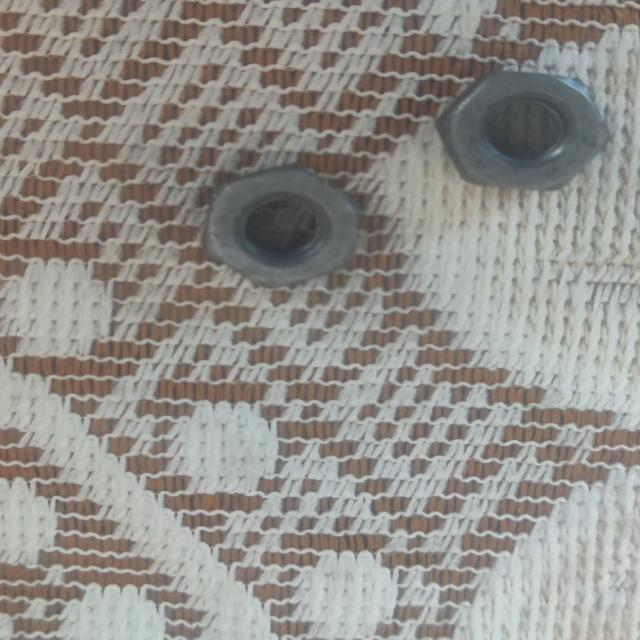disinfected nut: (437, 72, 610, 190), (203, 168, 360, 288)
